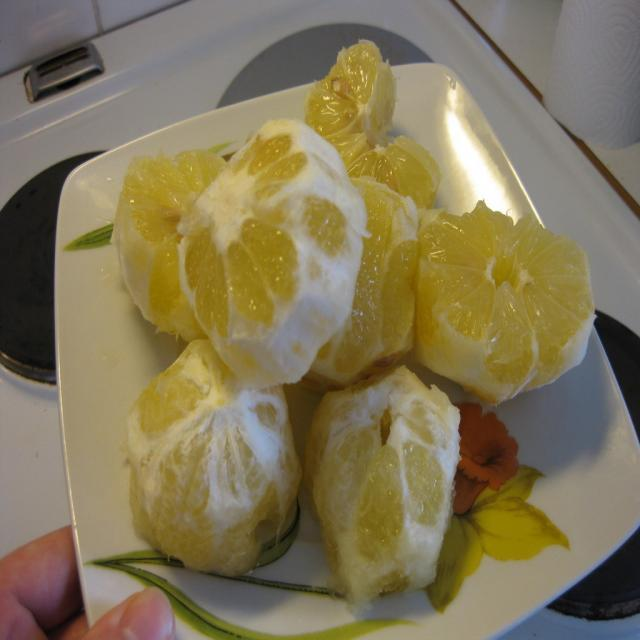Lemon: (113, 38, 600, 602)
